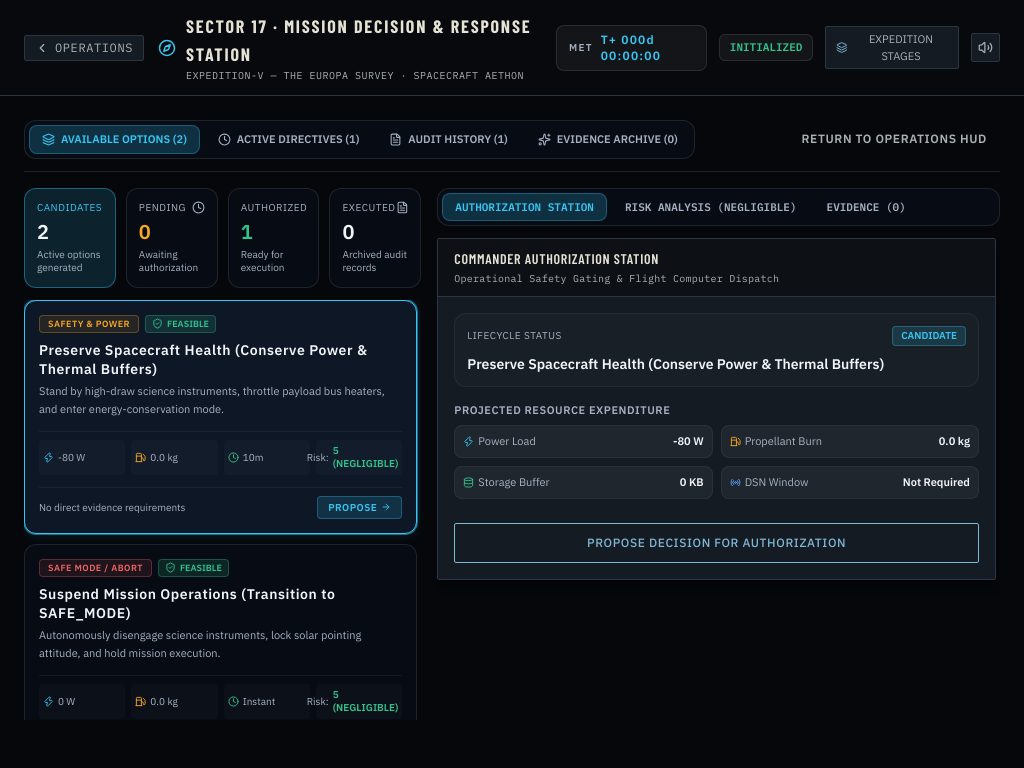
Phase 6.3 Mission Decision Interface Integration › 11. Failed Execution Handling › displays error callout and updates status when decision execution fails
Switch to Active Directives
Click the button "Active Directives (1)" at (289, 139), box x1=206 y1=126 x2=371 y2=153
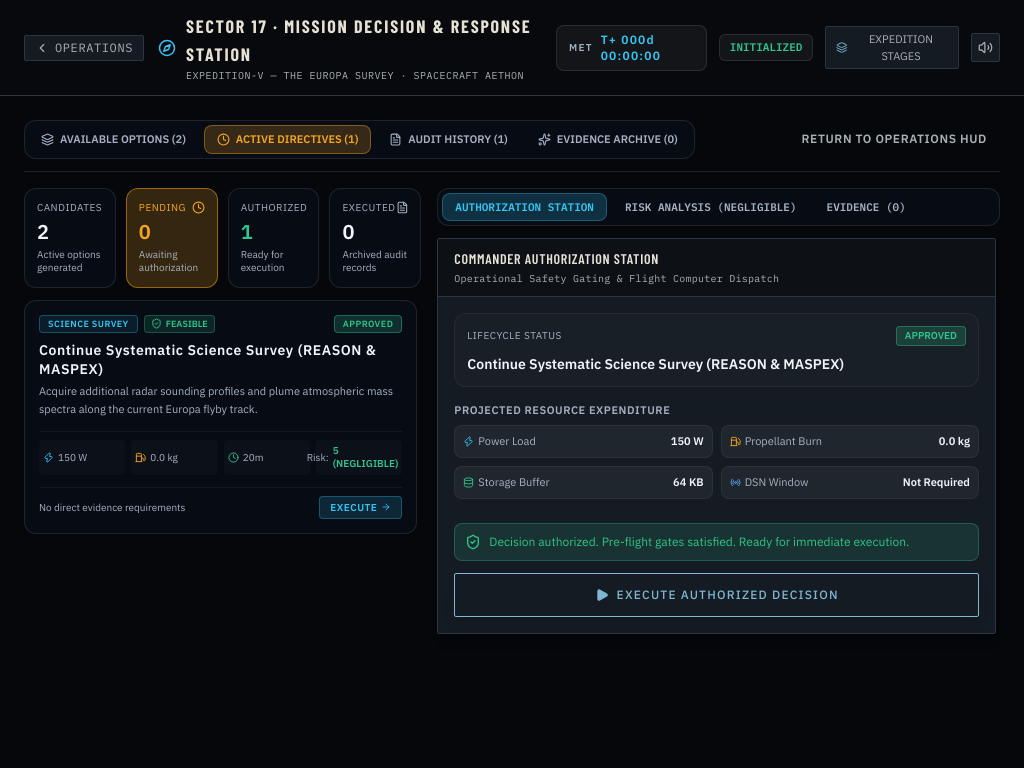
Select directive
Click the heading "Continue Systematic Science Survey (REASON & MASPEX)" at (221, 360), box x1=39 y1=341 x2=402 y2=379
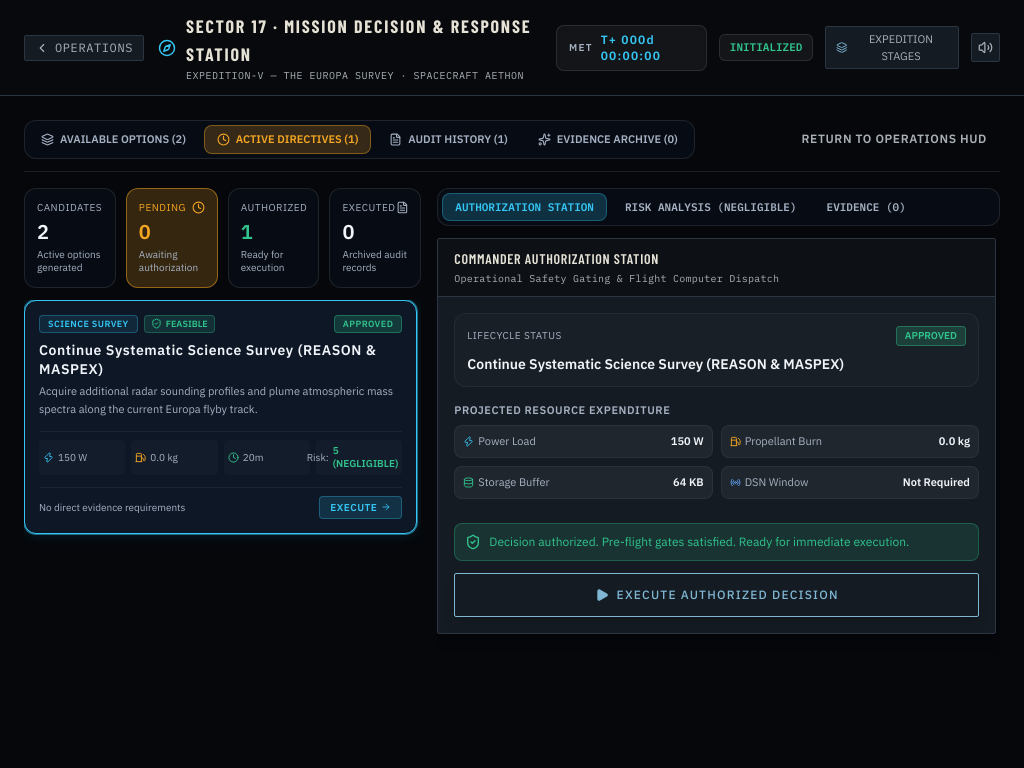
Click the button "EXECUTE AUTHORIZED DECISION" at (717, 595), box x1=454 y1=573 x2=979 y2=617
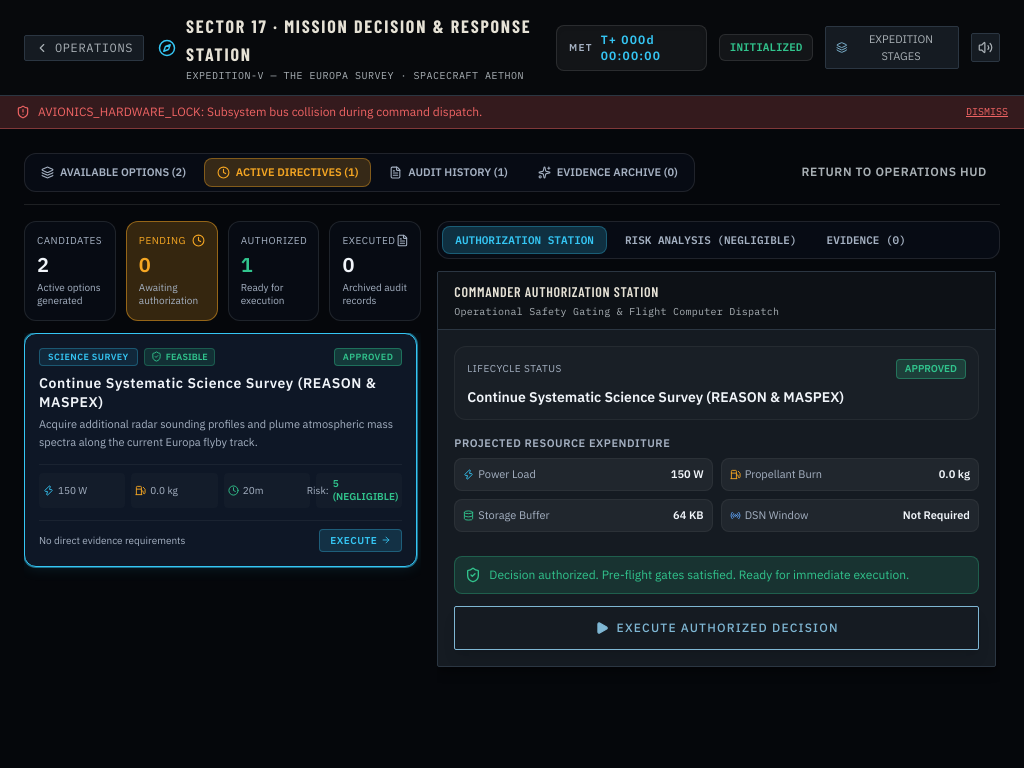
Now the text "AVIONICS_HARDWARE_LOCK: Subsystem bus collision during command dispatch." is shown, box x1=38 y1=104 x2=482 y2=120
